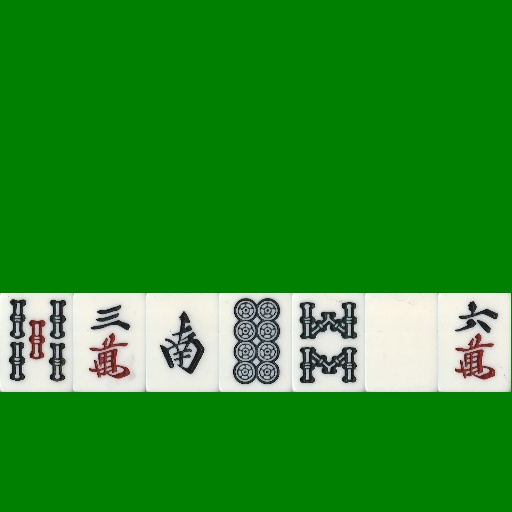3m: (73, 293, 146, 392)
5s: (0, 293, 73, 392)
6m: (438, 293, 511, 392)
8p: (219, 293, 292, 392)
8s: (292, 293, 365, 392)
south: (146, 293, 219, 392)
white: (365, 293, 438, 392)
